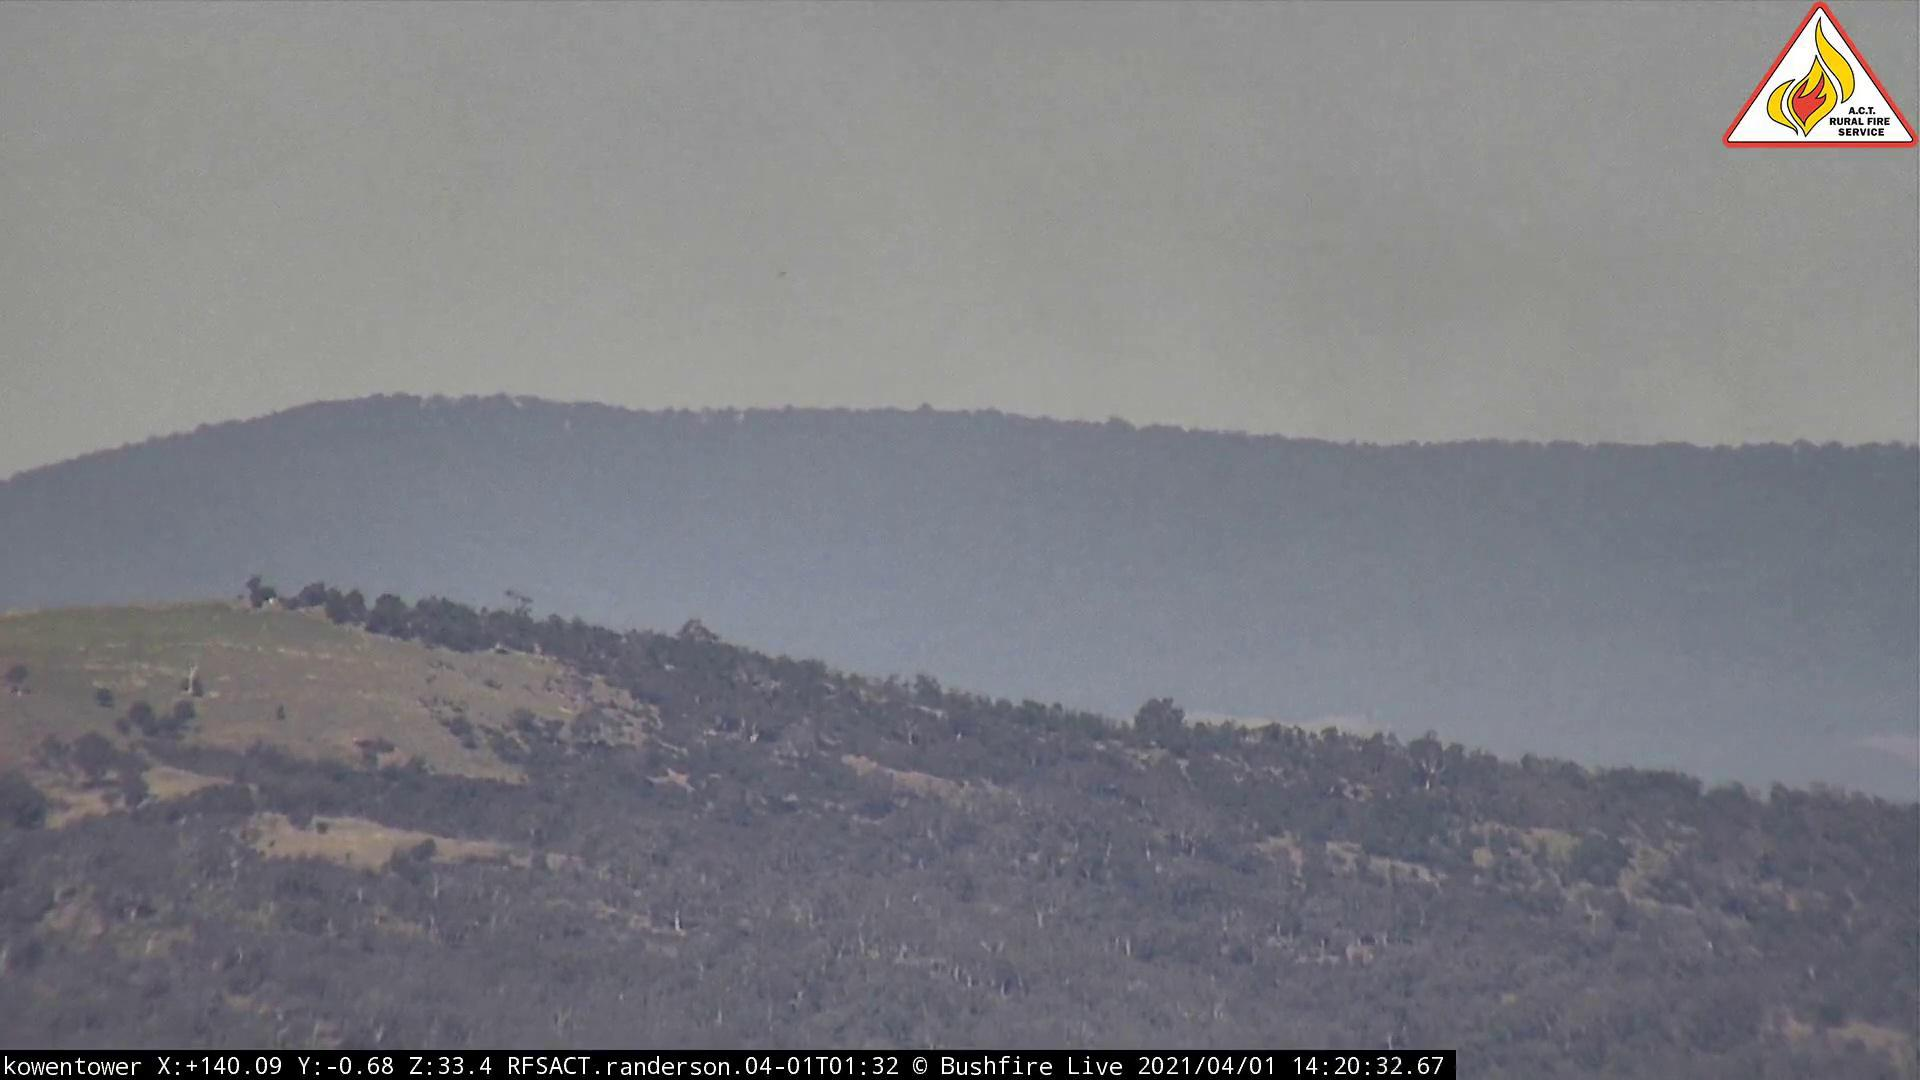instance_salient_object: (891, 3, 1668, 458)
